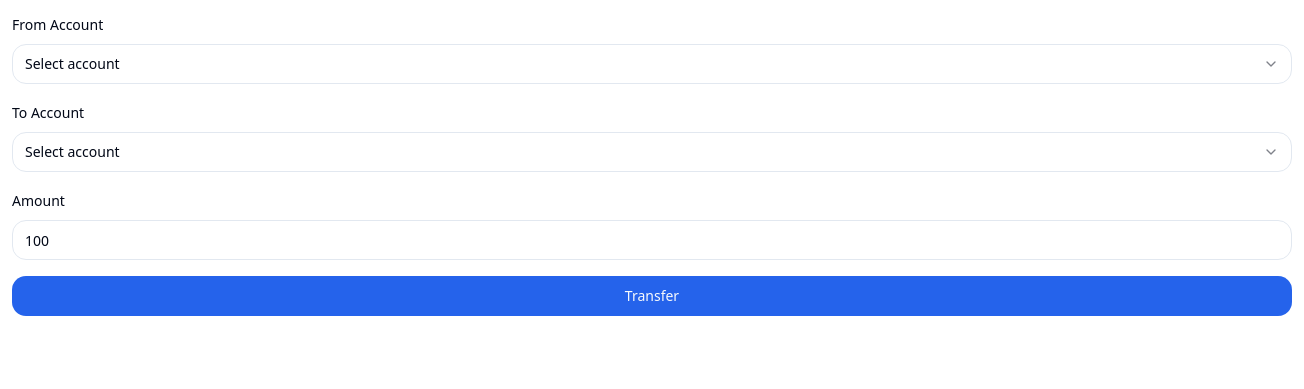
Test: TransferFundsForm › validates input fields
Click the button "Transfer".
click(652, 296)  # box [12,276,1292,316]
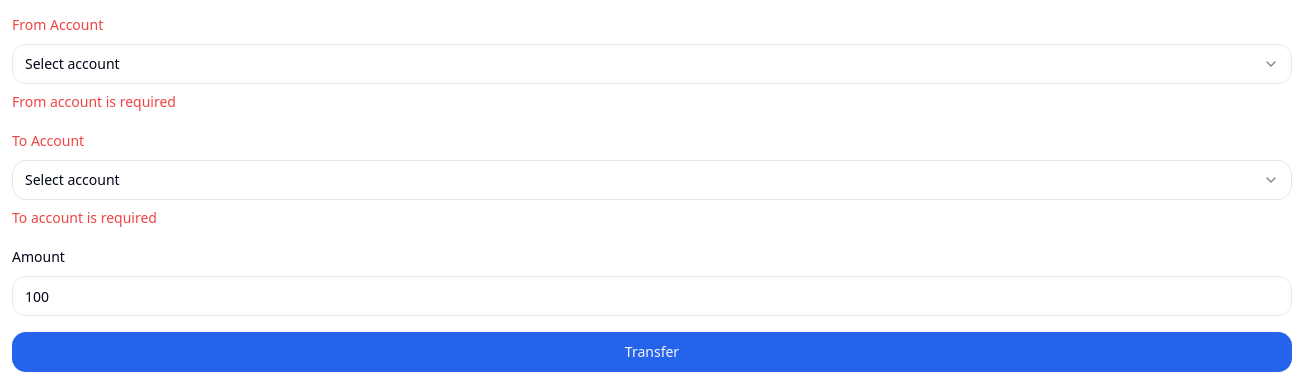
Result: the text "From account is required" is shown at [12,92,176,111]
Result: the text "To account is required" is shown at [12,208,157,227]
